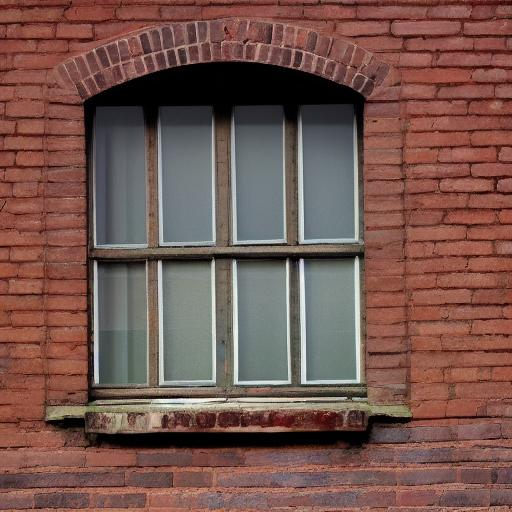Window: (47, 18, 412, 446)
